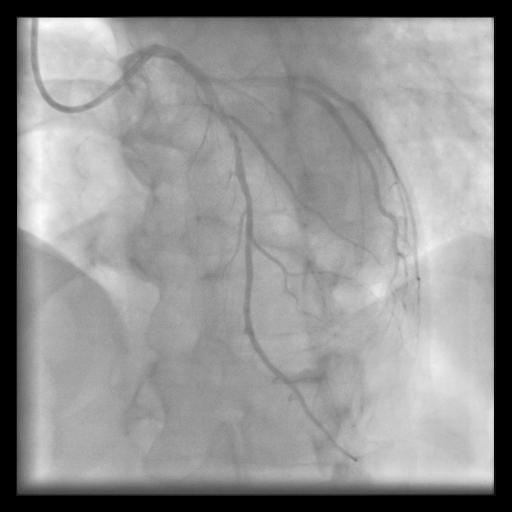Stenosis: (223, 119, 242, 170)
